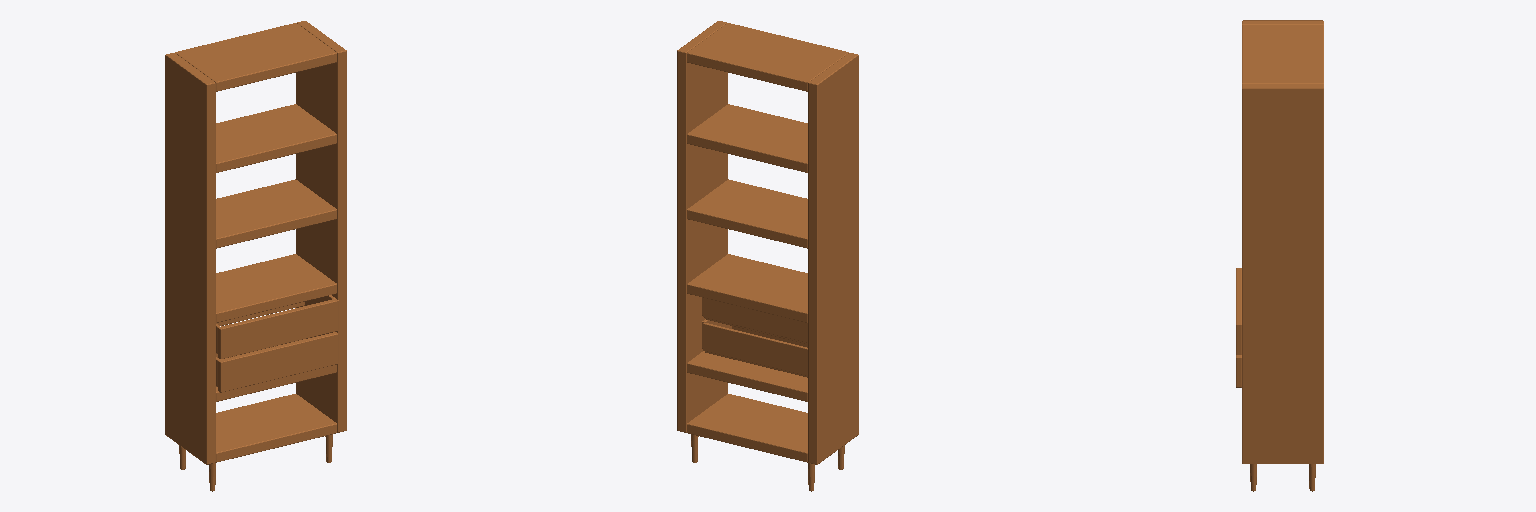
robot.urdf — bookcase005:
<?xml version="1.0"?>
<robot name="bookcase005">
  <link name="base_link">
    <inertial>
      <origin xyz="0 0 0" rpy="0 0 0"/>
      <mass value="8"/>
      <inertia ixx="0.08" ixy="0" ixz="0" iyy="0.08" iyz="0" izz="0.08"/>
    </inertial>
    <visual>
      <origin xyz="0 0 0" rpy="0 0 0"/>
      <geometry>
        <mesh filename="meshes/base_link.obj" scale="1 1 1"/>
      </geometry>
      <material name="pale_beech_wood">
        <color rgba="0.72 0.48 0.28 1"/>
      </material>
    </visual>
    <collision>
      <origin xyz="0 0 0" rpy="0 0 0"/>
      <geometry>
        <mesh filename="meshes/base_link.obj" scale="1 1 1"/>
      </geometry>
    </collision>
  </link>

  <link name="drawer_upper_link">
    <inertial>
      <origin xyz="0 0 0" rpy="0 0 0"/>
      <mass value="0.8"/>
      <inertia ixx="0.008" ixy="0" ixz="0" iyy="0.008" iyz="0" izz="0.008"/>
    </inertial>
    <visual>
      <origin xyz="0 0 0" rpy="0 0 0"/>
      <geometry>
        <mesh filename="meshes/drawer_upper_link.obj" scale="1 1 1"/>
      </geometry>
      <material name="pale_beech_wood">
        <color rgba="0.72 0.48 0.28 1"/>
      </material>
    </visual>
    <collision>
      <origin xyz="0 0 0" rpy="0 0 0"/>
      <geometry>
        <mesh filename="meshes/drawer_upper_link.obj" scale="1 1 1"/>
      </geometry>
    </collision>
  </link>

  <link name="drawer_lower_link">
    <inertial>
      <origin xyz="0 0 0" rpy="0 0 0"/>
      <mass value="0.8"/>
      <inertia ixx="0.008" ixy="0" ixz="0" iyy="0.008" iyz="0" izz="0.008"/>
    </inertial>
    <visual>
      <origin xyz="0 0 0" rpy="0 0 0"/>
      <geometry>
        <mesh filename="meshes/drawer_lower_link.obj" scale="1 1 1"/>
      </geometry>
      <material name="pale_beech_wood">
        <color rgba="0.72 0.48 0.28 1"/>
      </material>
    </visual>
    <collision>
      <origin xyz="0 0 0" rpy="0 0 0"/>
      <geometry>
        <mesh filename="meshes/drawer_lower_link.obj" scale="1 1 1"/>
      </geometry>
    </collision>
  </link>

  <joint name="upper_drawer_slide_joint" type="prismatic">
    <parent link="base_link"/>
    <child link="drawer_upper_link"/>
    <origin xyz="0 -0.224999994 0.850000024" rpy="0 0 0"/>
    <axis xyz="0 -1 0"/>
    <limit lower="0" upper="0.3" effort="50" velocity="0.5"/>
  </joint>

  <joint name="lower_drawer_slide_joint" type="prismatic">
    <parent link="base_link"/>
    <child link="drawer_lower_link"/>
    <origin xyz="0 -0.224999994 0.665000021" rpy="0 0 0"/>
    <axis xyz="0 -1 0"/>
    <limit lower="0" upper="0.3" effort="50" velocity="0.5"/>
  </joint>
</robot>

--- What the picture shows (computed from the rendered views, not written in the file) ---
The picture shows the robot from 3 angles, left to right: view 1: azimuth 30°, elevation 25°; view 2: azimuth 150°, elevation 25°; view 3: azimuth 270°, elevation 25°; orthographic projection.
Model bookcase005 with 3 links and 2 joints (2 prismatic), rooted at base_link, posed every joint at zero.
Links seen in each view (by area): view 1: base_link, drawer_upper_link, drawer_lower_link; view 2: base_link, drawer_lower_link, drawer_upper_link; view 3: base_link.
Boxes of the visible links, x1,y1,x2,y2 form: base_link: (165, 21, 346, 491); drawer_upper_link: (216, 295, 338, 358); drawer_lower_link: (216, 332, 338, 392); base_link: (677, 21, 858, 491); drawer_lower_link: (702, 319, 807, 377); drawer_upper_link: (702, 297, 807, 343); base_link: (1242, 20, 1323, 491).
Bounding box of the posed robot: 0.82 × 0.45 × 2.3 m (x, y, z).
Meshes: 3 distinct files referenced, 3 mesh visuals loaded (3 OBJ).
